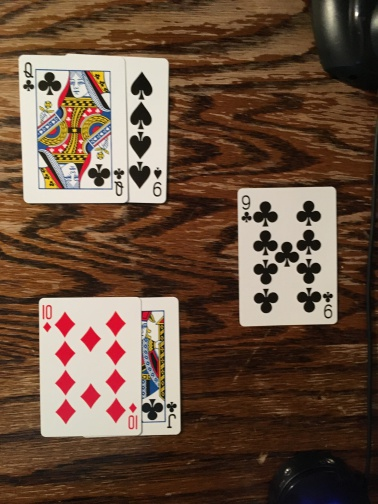jack: (139, 294, 181, 436)
nine: (236, 184, 339, 326), (126, 55, 171, 205)
queen: (16, 53, 126, 205)
ten: (39, 295, 143, 436)
